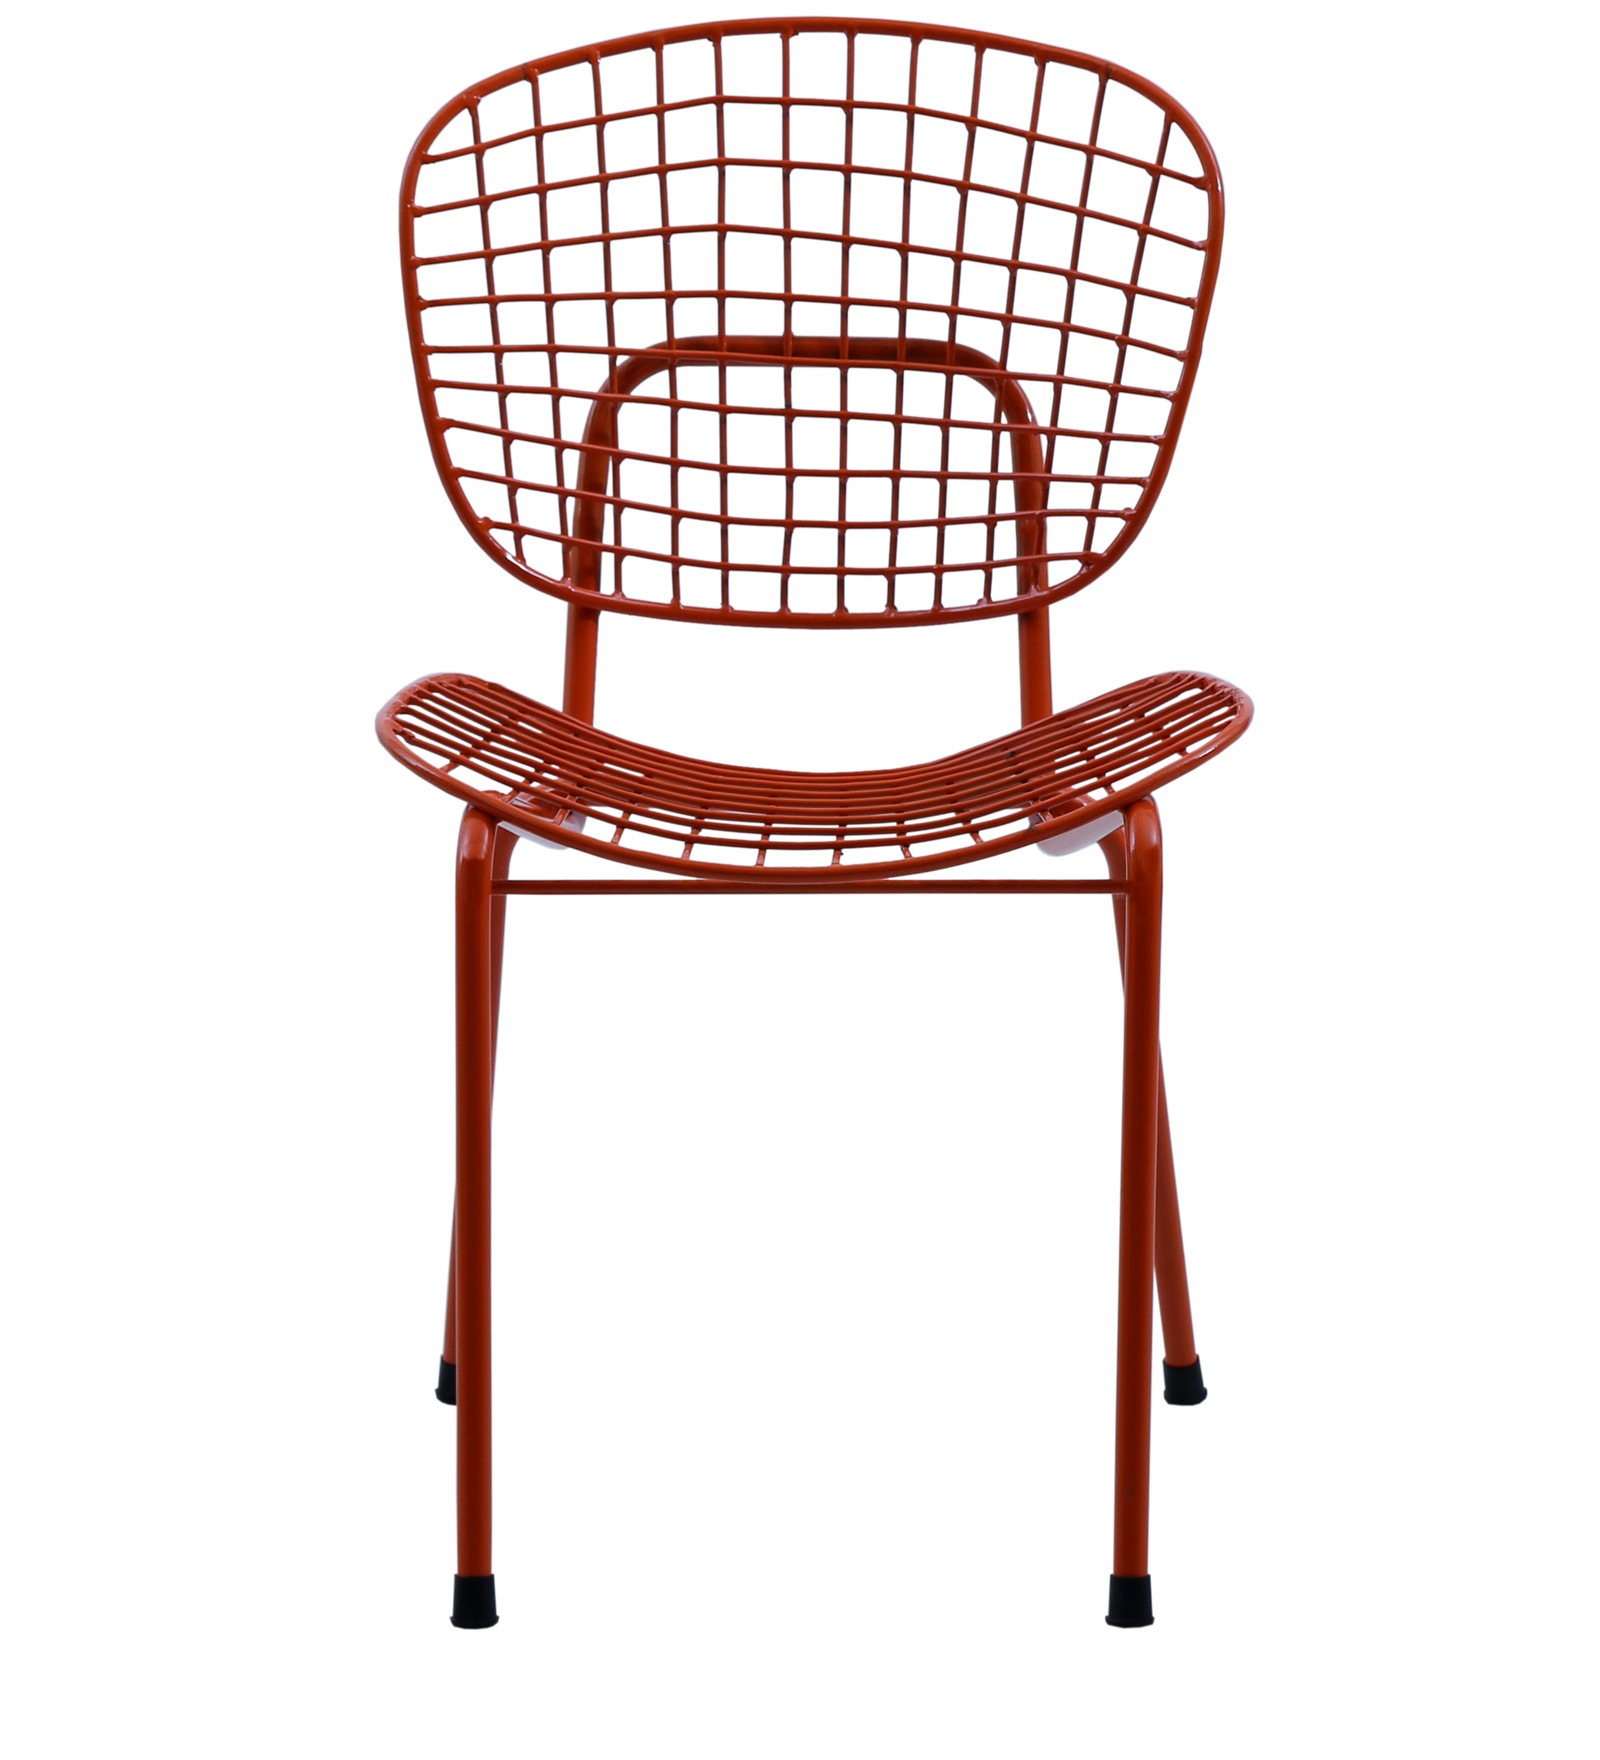Annette Metal Chair in Orange Color by Bohemiana: (333, 17, 1284, 1693)
